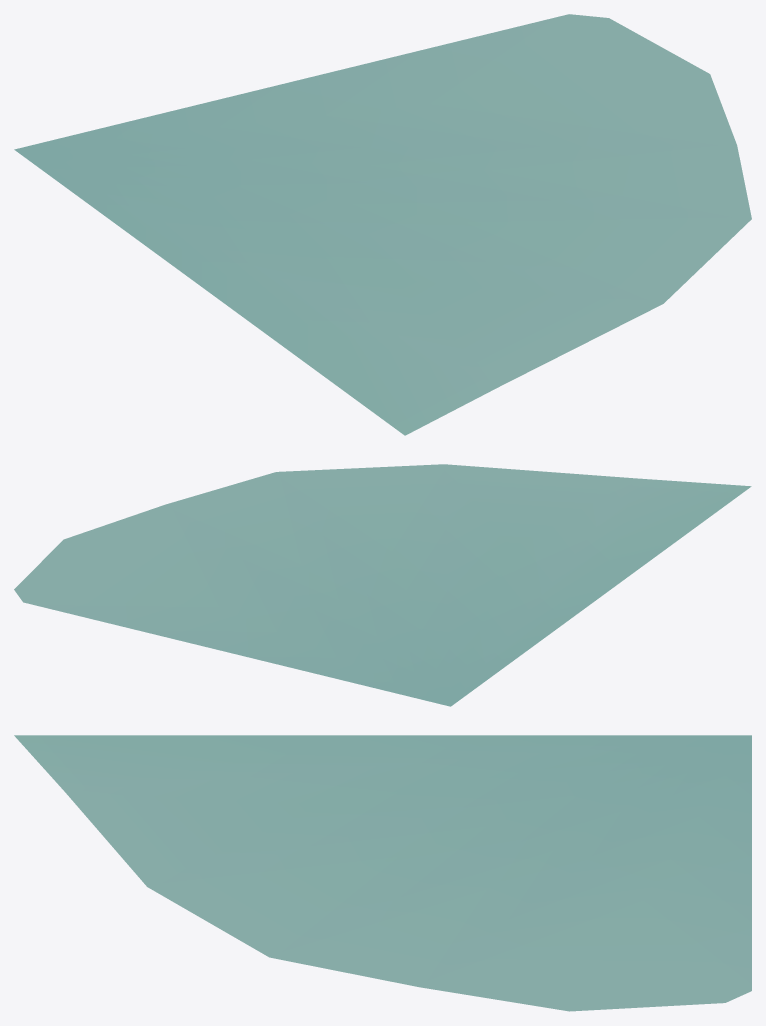
File: water-18-10.glb
The picture shows the model from 3 angles, top to bottom: view 1: azimuth 30°, elevation 25°; view 2: azimuth 150°, elevation 25°; view 3: azimuth 270°, elevation 25°; orthographic projection. The views are drawn at different scales.
Size of the model in its own units: 7.16 by 0 by 8.09.
